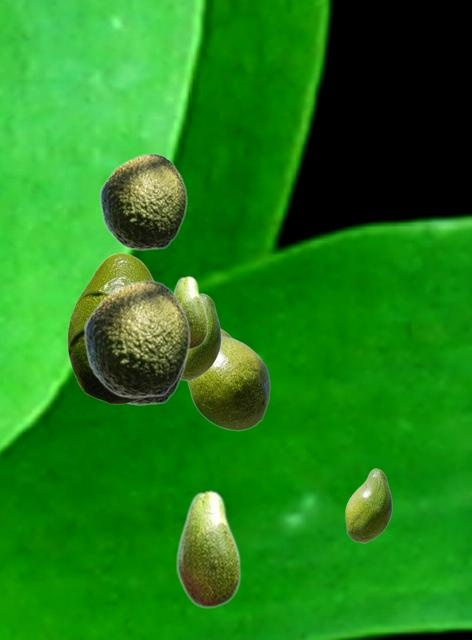avocado: (67, 252, 153, 403), (83, 280, 189, 397), (187, 328, 269, 430), (99, 153, 186, 249), (176, 489, 240, 608), (345, 468, 391, 542), (181, 293, 220, 380), (172, 275, 207, 349), (127, 365, 185, 404)
